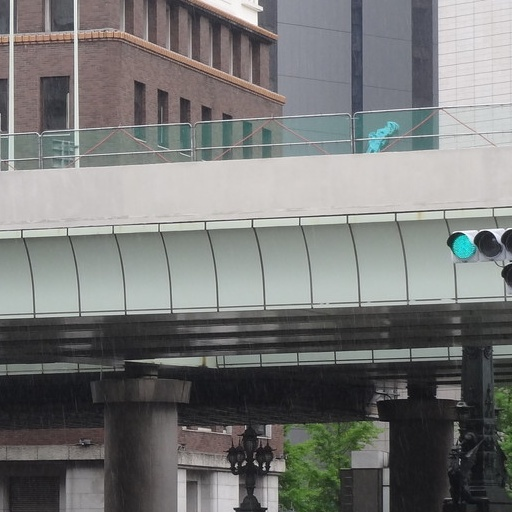Traffic_Signal_Blue: (440, 218, 509, 266)
